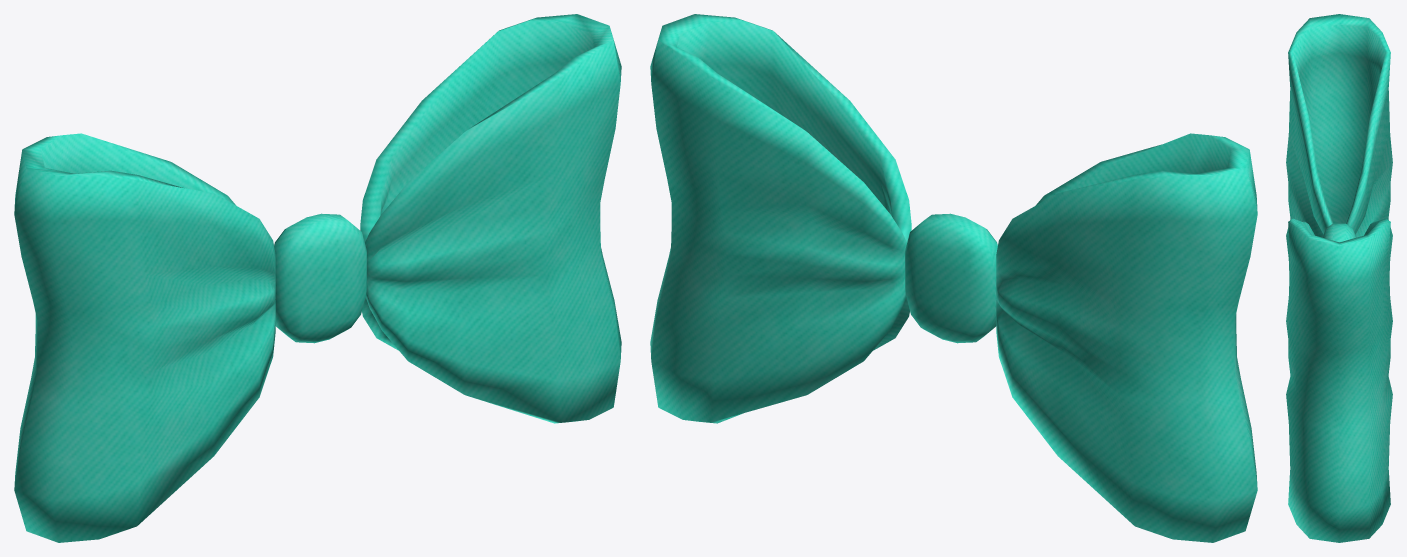
File: Bow.glb
3 views of the same model, side by side, from view 1: azimuth 30°, elevation 25°; view 2: azimuth 150°, elevation 25°; view 3: azimuth 270°, elevation 25° (orthographic). The views are drawn at different scales.
Parts seen in each view (by area): view 1: Circle, Cube.001; view 2: Circle, Cube.001; view 3: Circle, Cube.001.
Part boxes in pixels (x1,y1,x2,y2): Circle: [14, 14, 621, 542]; Cube.001: [274, 213, 366, 343]; Circle: [650, 14, 1257, 542]; Cube.001: [905, 213, 997, 343]; Circle: [1286, 14, 1392, 542]; Cube.001: [1322, 223, 1356, 242].
Bounding box in the file's own units: 0.9995 × 0.577 × 0.1865.
2 materials, 2 textured.
